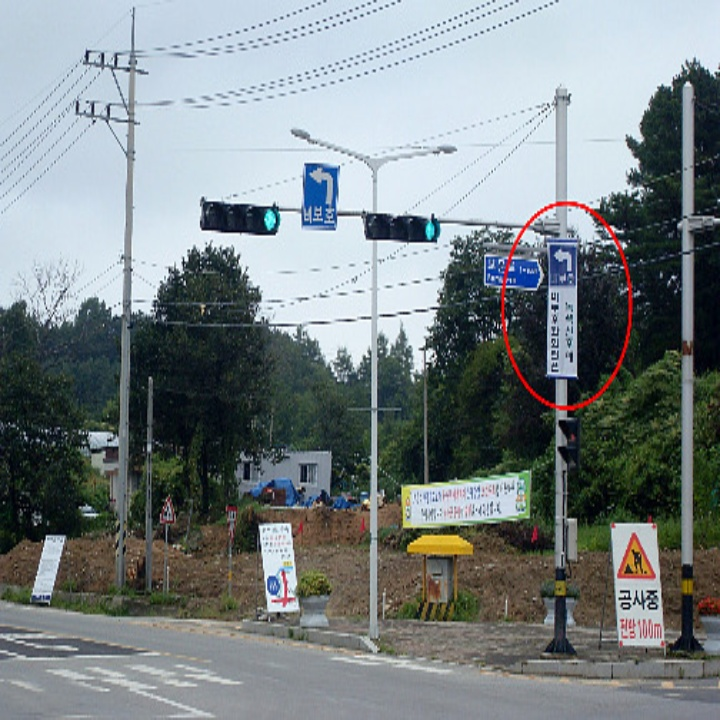left: (304, 164, 336, 207), (549, 247, 576, 275)
